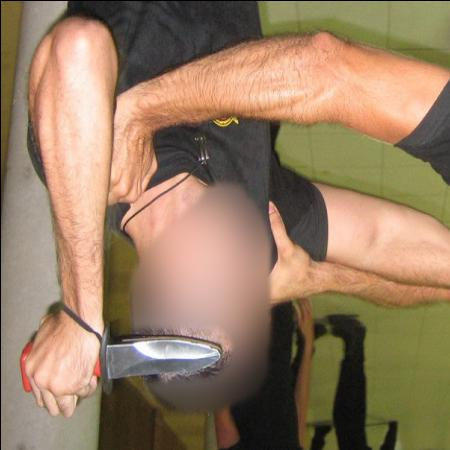long weapon: (11, 324, 230, 425)
